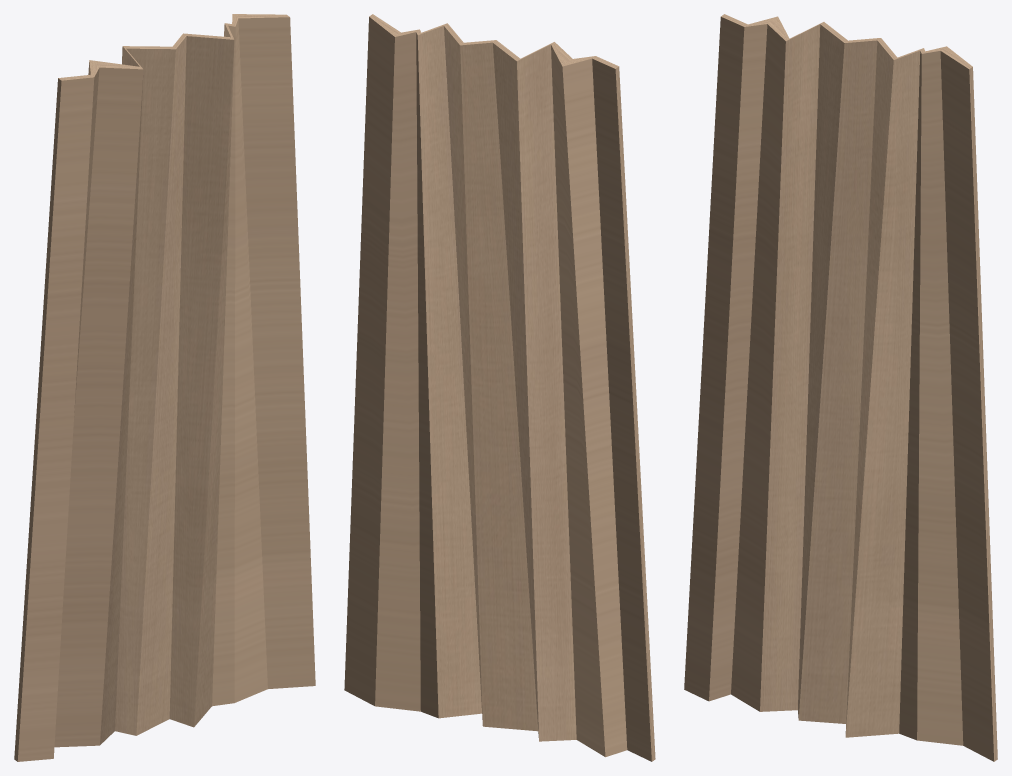
Rendered from cortinaaaa 1.fbx.
3 views of the same model, side by side, from view 1: azimuth 30°, elevation 25°; view 2: azimuth 150°, elevation 25°; view 3: azimuth 330°, elevation 25° (orthographic).
Parts seen in each view (by area): view 1: Cube.003; view 2: Cube.003; view 3: Cube.003.
Boxes of the visible parts, left/top/right/bottom form: Cube.003: left=14, top=14, right=315, bottom=761; Cube.003: left=344, top=14, right=655, bottom=761; Cube.003: left=684, top=14, right=997, bottom=761.
Size of the model in its own units: 2.35 by 5.02 by 0.4674.
1 material, 1 textured.
